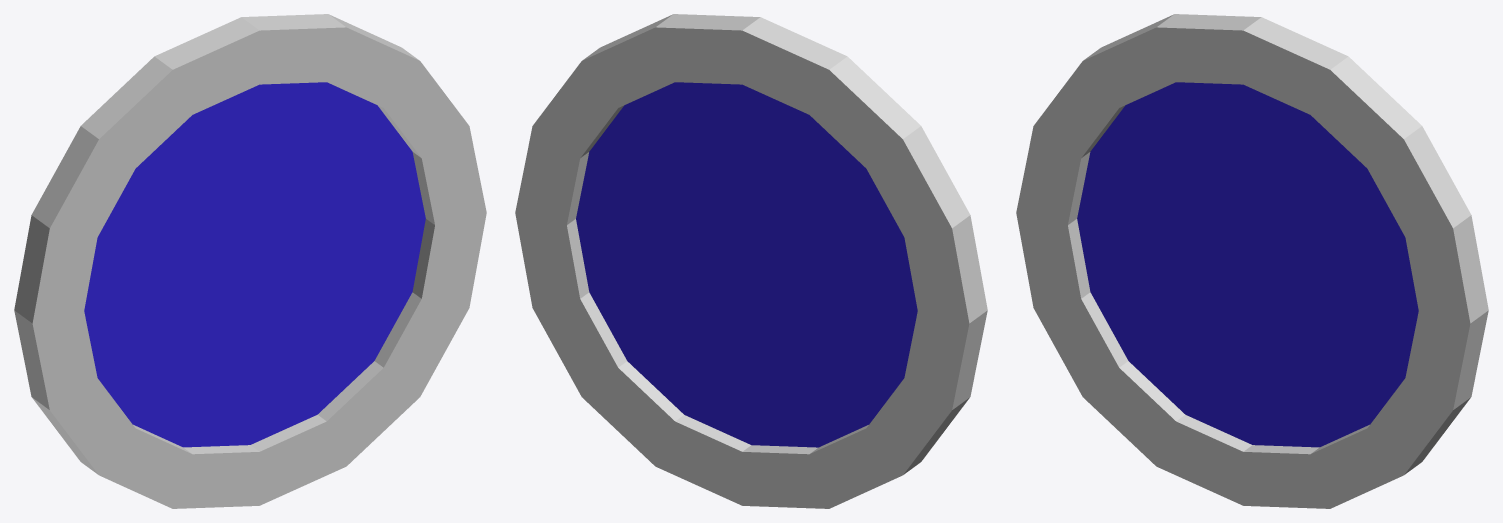
File: PaintingSimple_Circle.fbx
The picture shows the model from 3 angles, left to right: view 1: azimuth 30°, elevation 25°; view 2: azimuth 150°, elevation 25°; view 3: azimuth 330°, elevation 25°; orthographic projection.
Parts seen in each view (by area): view 1: Painting_Circle; view 2: Painting_Circle; view 3: Painting_Circle.
Boxes of the visible parts, bbox=[...] form: Painting_Circle: bbox=[14, 14, 486, 508]; Painting_Circle: bbox=[515, 14, 987, 508]; Painting_Circle: bbox=[1016, 14, 1488, 508].
Bounding box in the file's own units: 200 × 200 × 14.
